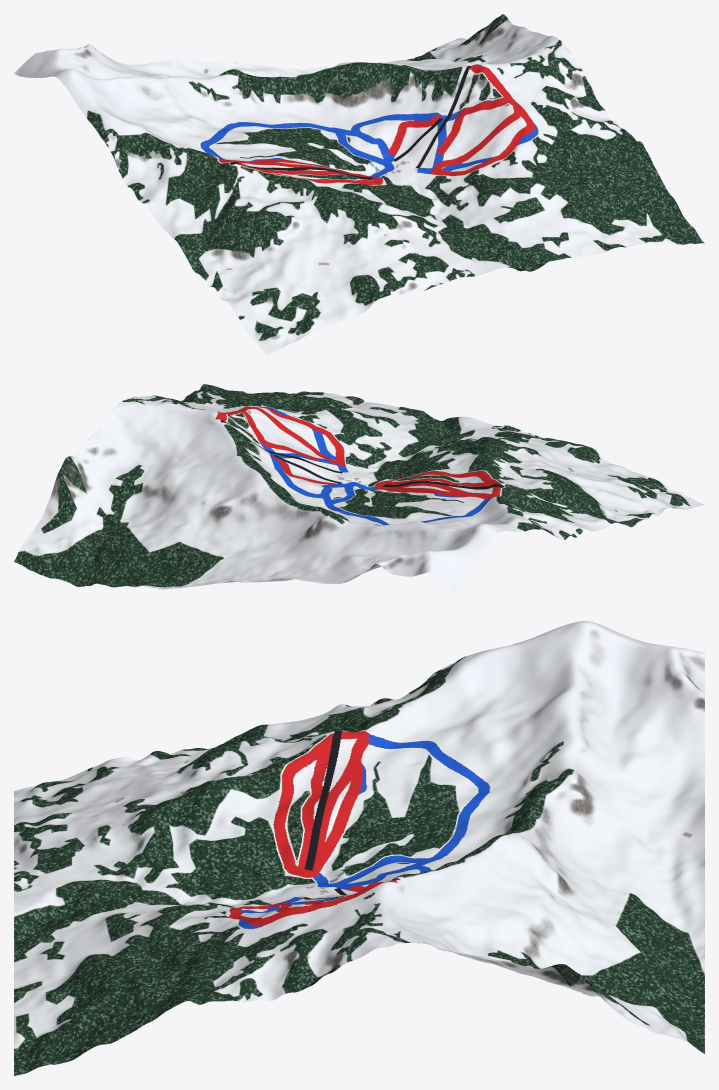
3 views of the same model, one above another, from view 1: azimuth 30°, elevation 25°; view 2: azimuth 150°, elevation 25°; view 3: azimuth 270°, elevation 25° (orthographic). The views are drawn at different scales.
Parts seen in each view (by area): view 1: B4_Grasgehren.glb; view 2: B4_Grasgehren.glb; view 3: B4_Grasgehren.glb.
Boxes of the visible parts, x1,y1,x2,y2 form: B4_Grasgehren.glb: [14, 14, 704, 355]; B4_Grasgehren.glb: [14, 384, 703, 592]; B4_Grasgehren.glb: [14, 621, 704, 1075].
Size of the model in its own units: 2384 by 676 by 2384.
Materials: 1 (1 with a texture image).
